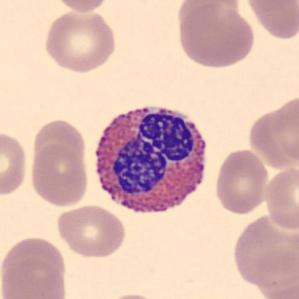Eosinophil: (87, 96, 215, 224)
RBC: (174, 1, 256, 70), (41, 7, 119, 74), (230, 218, 299, 287), (0, 233, 71, 293), (55, 202, 128, 260), (27, 142, 90, 209), (213, 147, 271, 216), (246, 94, 298, 170), (27, 117, 89, 172), (0, 257, 69, 299), (241, 0, 299, 42), (263, 164, 299, 231), (0, 127, 30, 198), (174, 0, 244, 27), (50, 0, 114, 14), (257, 279, 298, 299), (101, 291, 164, 299)
